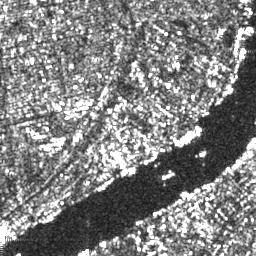ship: (177, 125, 204, 147), (246, 136, 256, 152), (161, 170, 176, 180)
